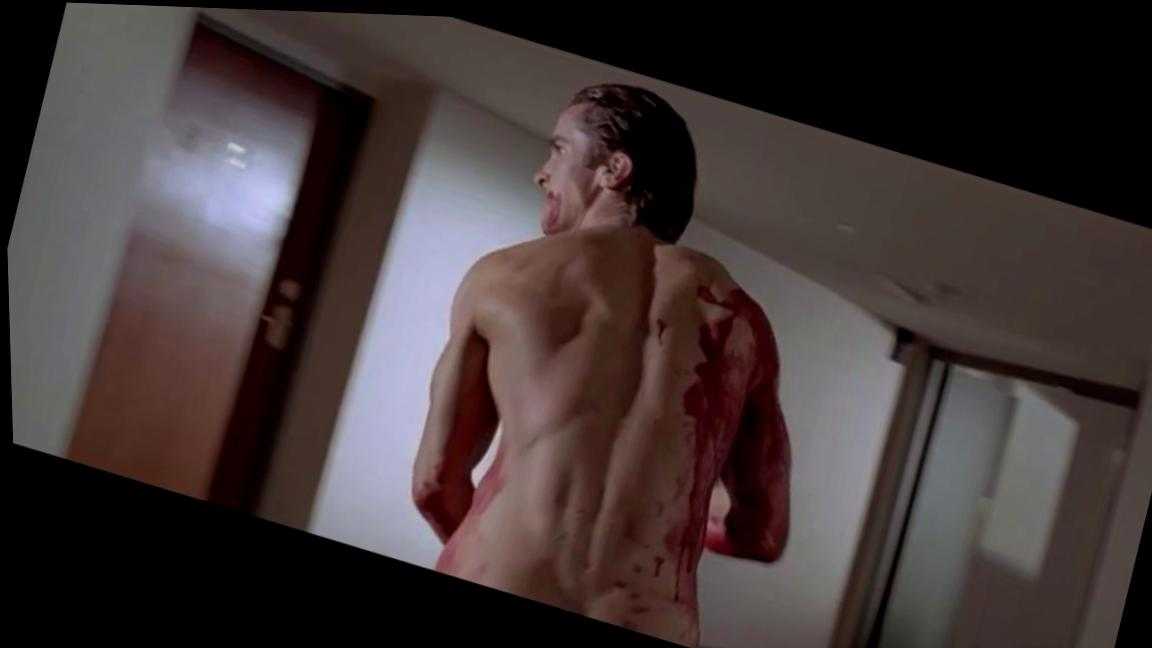Fire: (588, 242, 788, 617), (410, 408, 513, 579)
